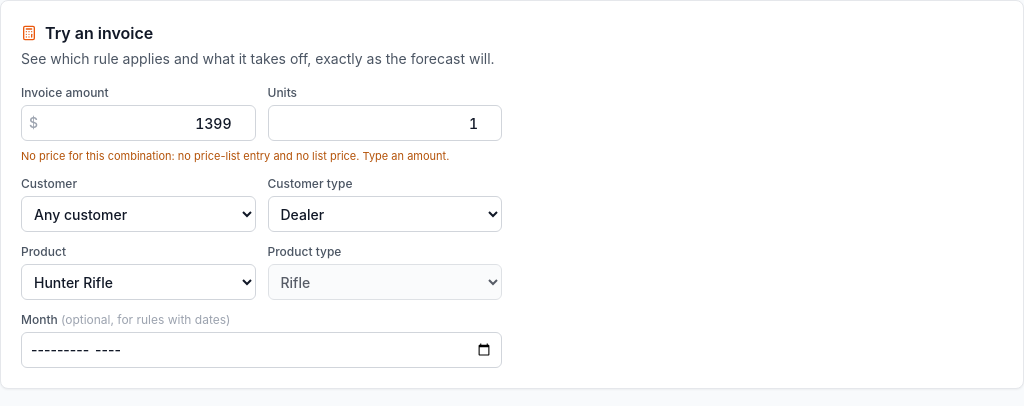
Scenario: DeductionExample invoice amount › asks for a product, and keeps the amount when nothing prices the combination
expect the element with test id "invoice-price-source" shows "No price for this combination": met, box [21,149,449,163]
expect the number field labelled "Invoice amount" holds "1399": met, box [21,105,256,141]
Select "Any product" in the dropdown labelled "Product" at [138, 282], box [21,264,256,300]
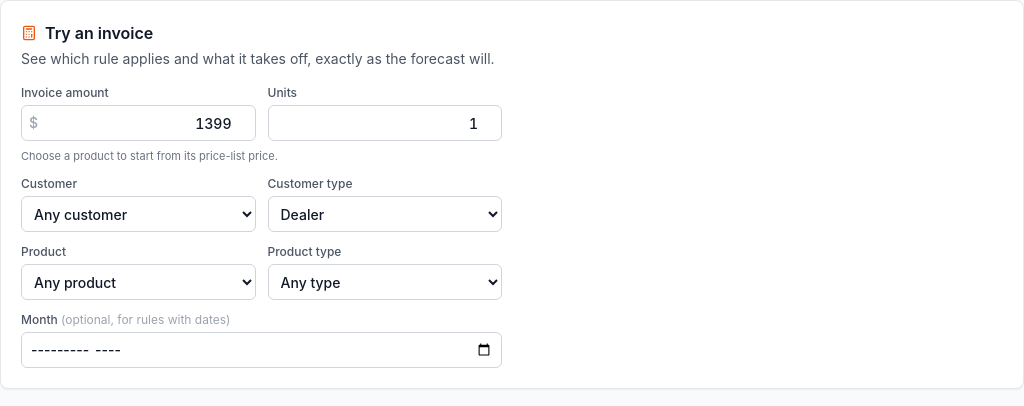
expect the text with test id "invoice-price-source" reads "Choose a product to start from its price-list price.": met, box [21,149,278,163]
